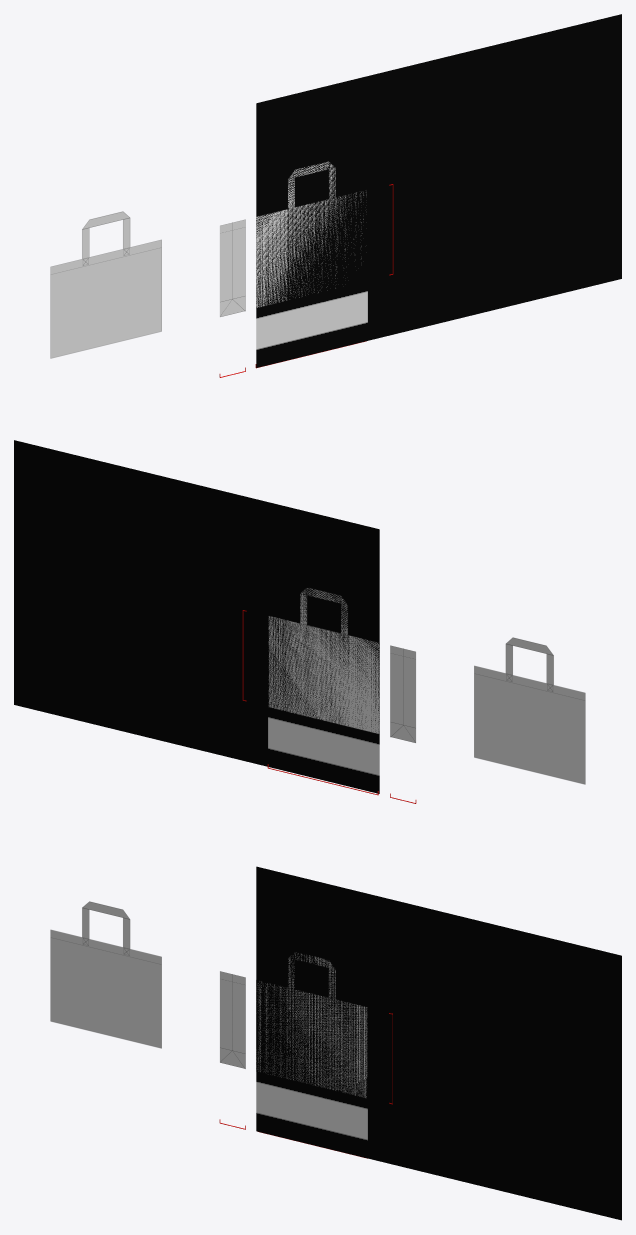
Rendered from 无纺布袋-有底有侧.glb.
The picture shows the model from 3 angles, top to bottom: view 1: azimuth 30°, elevation 25°; view 2: azimuth 150°, elevation 25°; view 3: azimuth 330°, elevation 25°; orthographic projection.
Parts seen in each view (by area): view 1: bag3, bag, bag2; view 2: bag3, bag, bag2; view 3: bag3, bag, bag2.
Boxes of the visible parts, bbox=[...] form: bag3: bbox=[256, 14, 621, 367]; bag: bbox=[50, 161, 366, 358]; bag2: bbox=[220, 219, 245, 316]; bag3: bbox=[14, 440, 379, 793]; bag: bbox=[268, 588, 585, 784]; bag2: bbox=[390, 645, 415, 742]; bag3: bbox=[256, 866, 621, 1220]; bag: bbox=[50, 901, 367, 1098]; bag2: bbox=[220, 971, 245, 1068].
Bounding box in the file's own units: 1.64 × 0.6831 × 0.00545.
5 materials, 3 textured.
